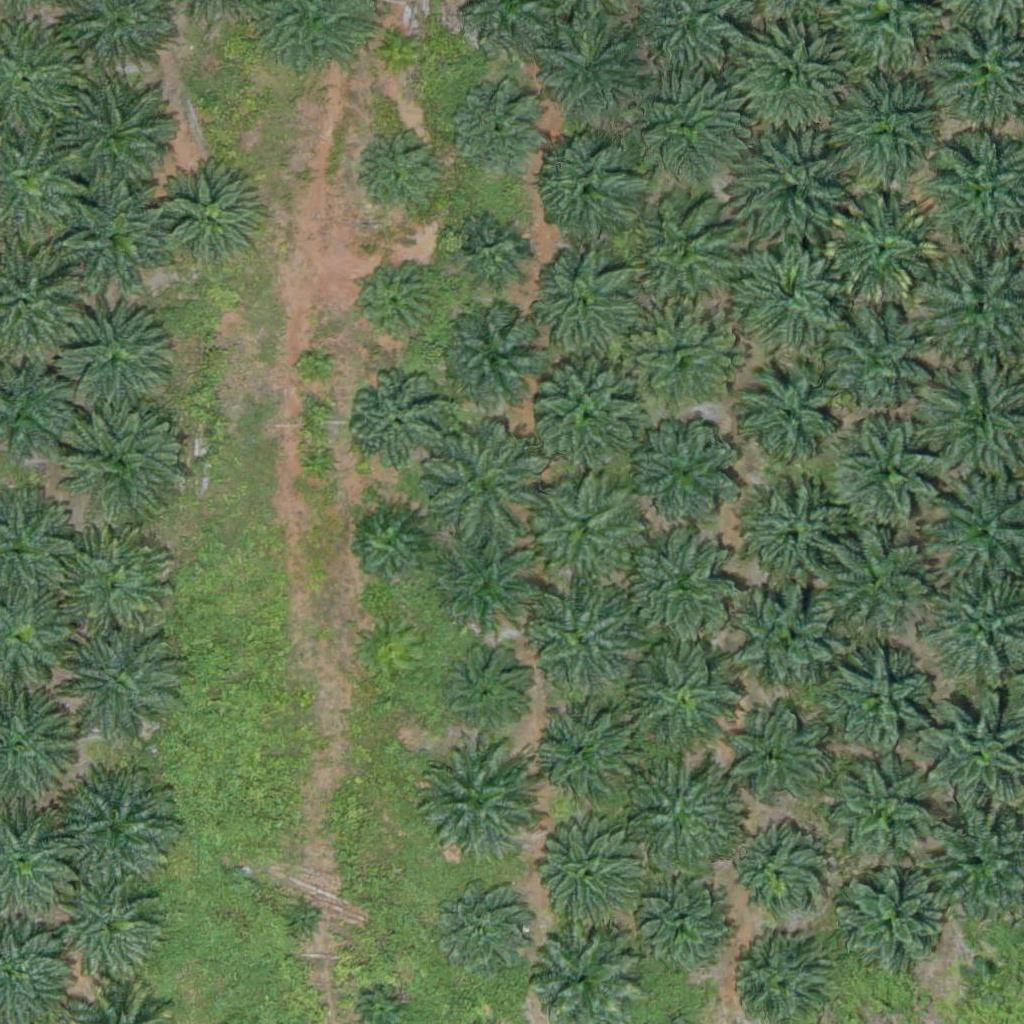Kelapa_Sawit: (51, 76, 176, 202), (57, 297, 182, 423), (56, 393, 181, 519), (418, 419, 543, 545), (51, 523, 176, 649), (55, 623, 180, 749), (51, 768, 176, 894), (411, 739, 536, 865), (821, 753, 946, 879), (623, 754, 748, 879), (832, 69, 945, 183), (627, 195, 740, 308), (621, 301, 734, 414), (533, 362, 646, 475), (523, 246, 636, 359), (533, 130, 646, 243), (538, 12, 651, 125), (154, 165, 267, 278), (631, 412, 744, 525), (739, 482, 852, 595), (626, 527, 739, 640), (626, 640, 739, 753), (724, 578, 837, 691), (838, 868, 951, 981), (735, 21, 847, 135), (60, 179, 172, 293), (818, 529, 930, 643), (826, 191, 938, 304), (825, 307, 937, 420), (732, 360, 844, 473), (732, 236, 844, 349), (739, 134, 851, 247), (630, 69, 742, 182), (833, 416, 945, 529), (531, 478, 643, 591), (432, 529, 544, 642), (527, 585, 639, 698), (529, 818, 641, 931), (820, 642, 932, 755), (451, 80, 551, 181), (443, 311, 543, 412), (62, 883, 162, 984), (432, 878, 532, 979), (535, 706, 635, 807), (633, 878, 733, 979), (723, 706, 823, 807), (725, 823, 825, 924), (347, 374, 447, 474), (356, 132, 444, 220), (354, 260, 442, 348), (444, 643, 531, 731), (353, 508, 428, 584), (455, 215, 530, 290), (961, 952, 1011, 1002), (389, 31, 427, 69), (283, 900, 321, 938), (297, 351, 334, 389)
